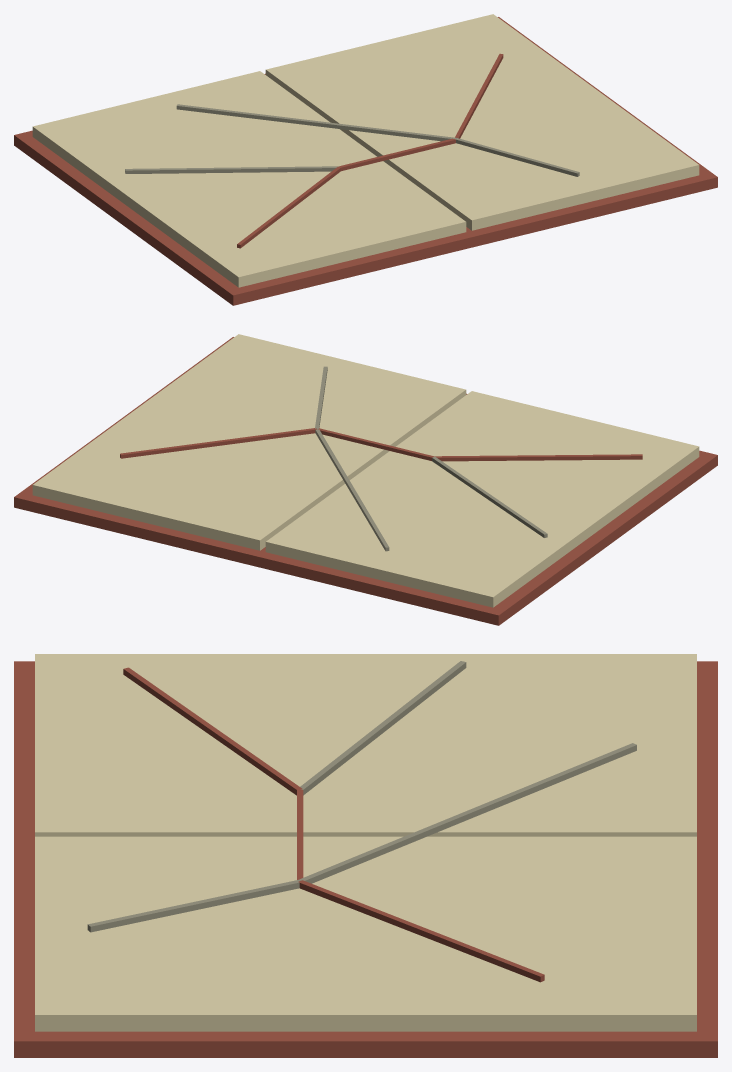
Rendered from open_road_atlas.glb.
3 renders of one model, top to bottom at view 1: azimuth 30°, elevation 25°; view 2: azimuth 150°, elevation 25°; view 3: azimuth 270°, elevation 25°, orthographic. The views are drawn at different scales.
Visible parts, largest first — view 1: Atlas pages, Atlas pages.001, Back cover, Map road.003, Map road.005, Map road, Map road.004, Map road.001, Map road.002; view 2: Atlas pages, Atlas pages.001, Back cover, Map road, Map road.002, Map road.005, Map road.003, Map road.001; view 3: Atlas pages.001, Atlas pages, Back cover, Map road.003, Map road.002, Map road, Map road.004, Map road.005.
Part boxes in pixels (x1,y1,x2,y2): Atlas pages: (32,71,466,287); Atlas pages.001: (265,14,699,230); Back cover: (14,17,717,305); Map road.003: (176,104,456,141); Map road.005: (125,166,338,173); Map road: (237,167,340,248); Map road.004: (455,138,579,176); Map road.001: (339,138,455,171); Map road.002: (455,53,503,138); Atlas pages: (265,391,699,607); Atlas pages.001: (32,334,466,550); Back cover: (14,337,717,625); Map road: (434,454,642,461); Map road.002: (120,428,316,458); Map road.005: (432,456,547,537); Map road.003: (315,428,389,551); Map road.001: (317,428,433,460); Atlas pages.001: (35,836,696,1031); Atlas pages: (35,654,696,836); Back cover: (14,661,717,1057); Map road.003: (298,743,636,883); Map road.002: (298,880,544,982); Map road: (123,667,302,795); Map road.004: (87,880,299,932); Map road.005: (300,661,466,795).
Size of the model in its own units: 0.341 by 0.0174 by 0.267.
